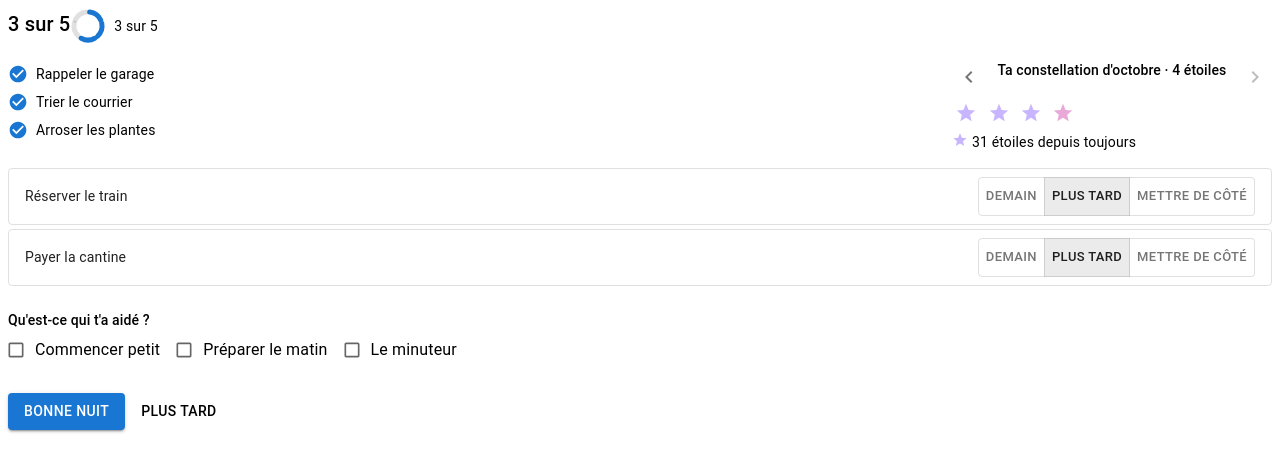
Test case: TaskEvening — « Le soir » (MAG-500) › a month without a star is shown empty, not refused (MAG-509)
Expected: the heading "Ta constellation d'octobre · 4 étoiles" is shown, [998,62,1226,78]
Click the button named "Mois précédent" at (969, 77), box [952,60,986,94]
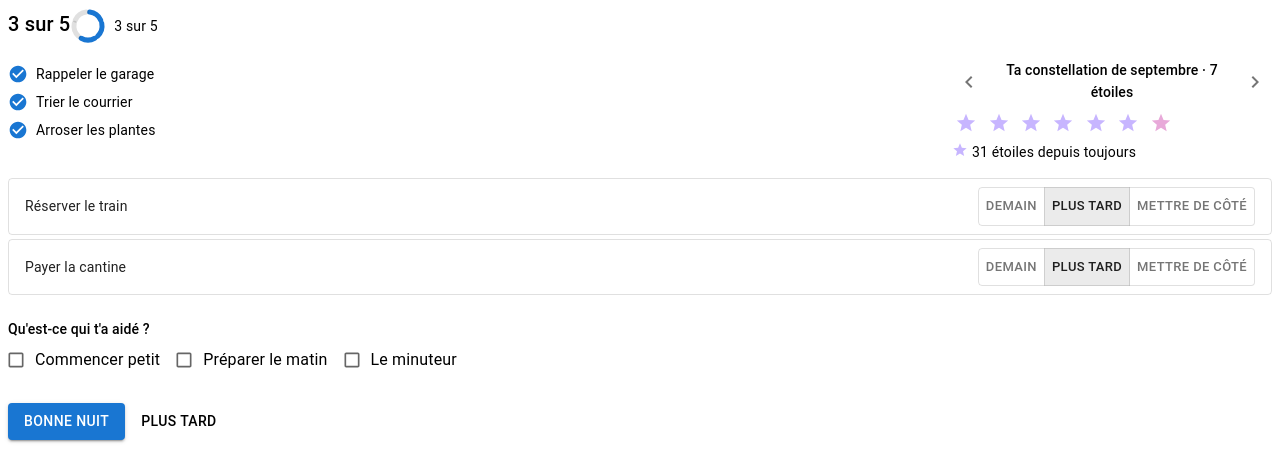
Result: the heading "Ta constellation de septembre · 7 étoiles" is shown at [994,60,1230,104]
Click the button named "Mois précédent" at (969, 82), box [952,60,986,104]
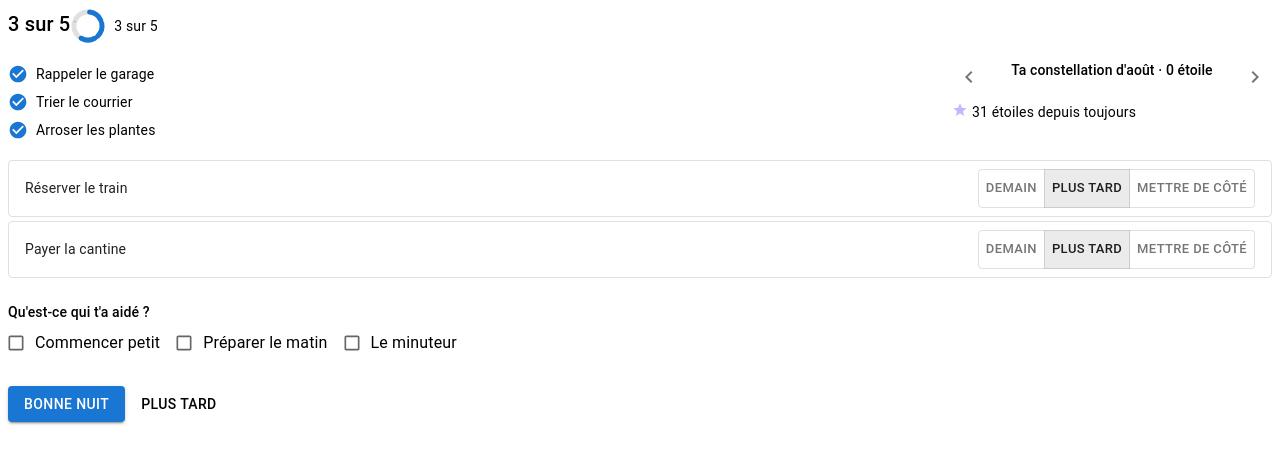
Result: the heading "Ta constellation d'août · 0 étoile" is shown at [1011,62,1213,78]
Result: no icons with test id "constellation-star" are shown
